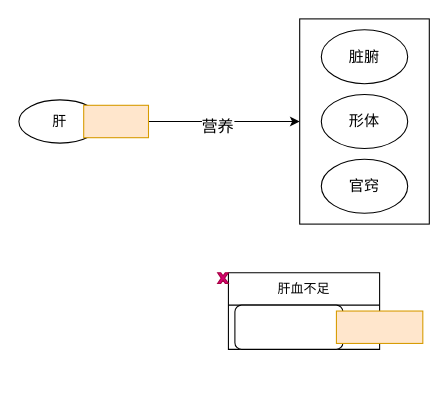
Image size: 448x413. Some labels were removed from this diagram. Each missing label, with the centre of its shape:
"不能濡养头目" goes at (x=288, y=326).
"储存血液" goes at (x=115, y=121).
"眼目干涩、头" goes at (x=379, y=326).
